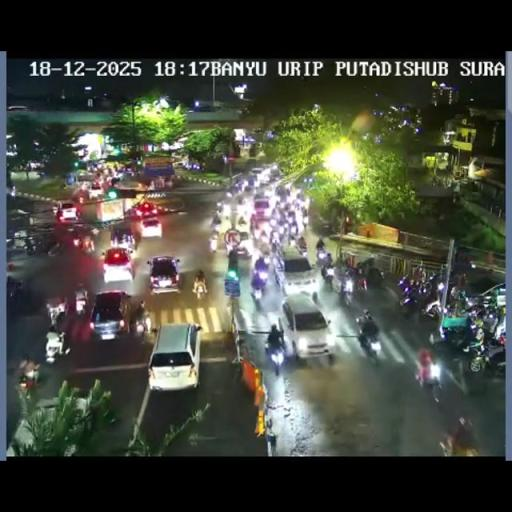Car: (146, 322, 200, 390), (280, 293, 332, 358), (89, 290, 133, 340), (280, 246, 318, 295), (146, 254, 180, 293), (463, 281, 504, 311), (102, 246, 136, 282), (224, 229, 254, 258), (224, 250, 242, 296), (109, 225, 136, 252), (140, 214, 162, 238), (134, 201, 158, 218), (56, 202, 78, 220), (252, 196, 270, 218), (76, 168, 94, 182), (250, 167, 266, 182), (88, 184, 103, 198)
Motorcycle: (462, 332, 504, 375), (434, 314, 476, 354), (415, 356, 443, 401), (439, 426, 479, 456), (355, 324, 382, 365), (442, 356, 469, 394), (44, 328, 71, 362), (264, 334, 286, 374), (334, 268, 358, 300), (417, 296, 441, 326), (398, 288, 421, 319), (130, 300, 150, 334), (478, 306, 500, 336), (16, 369, 38, 398), (252, 216, 274, 243), (251, 256, 270, 286), (270, 247, 286, 278), (249, 280, 265, 310), (264, 418, 277, 454), (449, 284, 466, 310), (320, 261, 335, 288), (6, 276, 22, 301), (74, 282, 88, 310), (290, 234, 308, 254), (192, 278, 207, 300), (46, 239, 64, 257), (418, 277, 434, 297), (315, 240, 329, 262), (355, 271, 368, 292), (358, 309, 373, 327), (24, 236, 38, 255), (80, 236, 94, 254), (210, 212, 222, 232), (54, 309, 66, 328), (258, 239, 270, 258), (270, 228, 282, 246), (208, 231, 218, 252), (230, 200, 239, 223), (288, 220, 299, 238), (171, 172, 183, 184), (241, 181, 251, 195), (249, 214, 257, 230), (300, 212, 308, 228), (215, 201, 223, 213), (238, 214, 246, 226), (226, 189, 234, 200), (224, 212, 230, 221)
